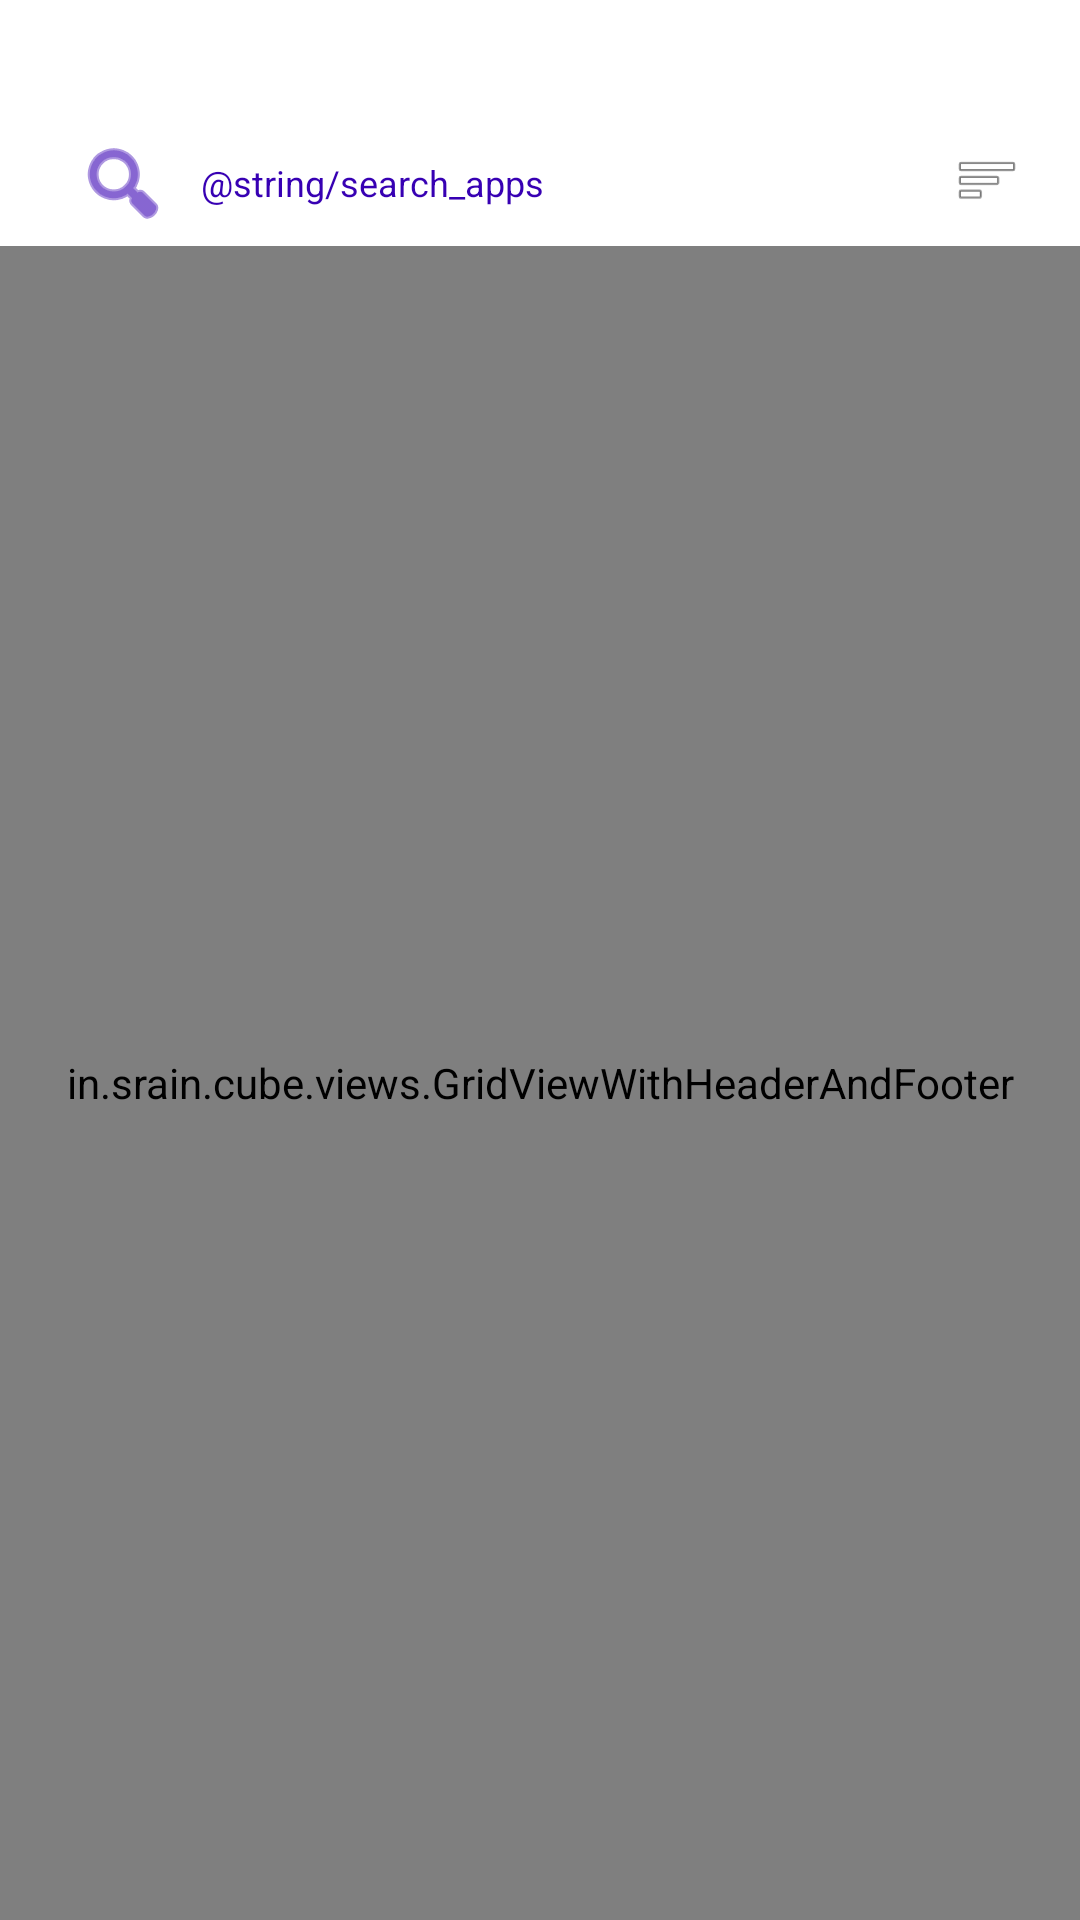

Named icons in this screenshot (1080w x 1920h) and their bounding boxes, (x1, y1, x2, y2):
sort by size: (958, 162, 1016, 199)
